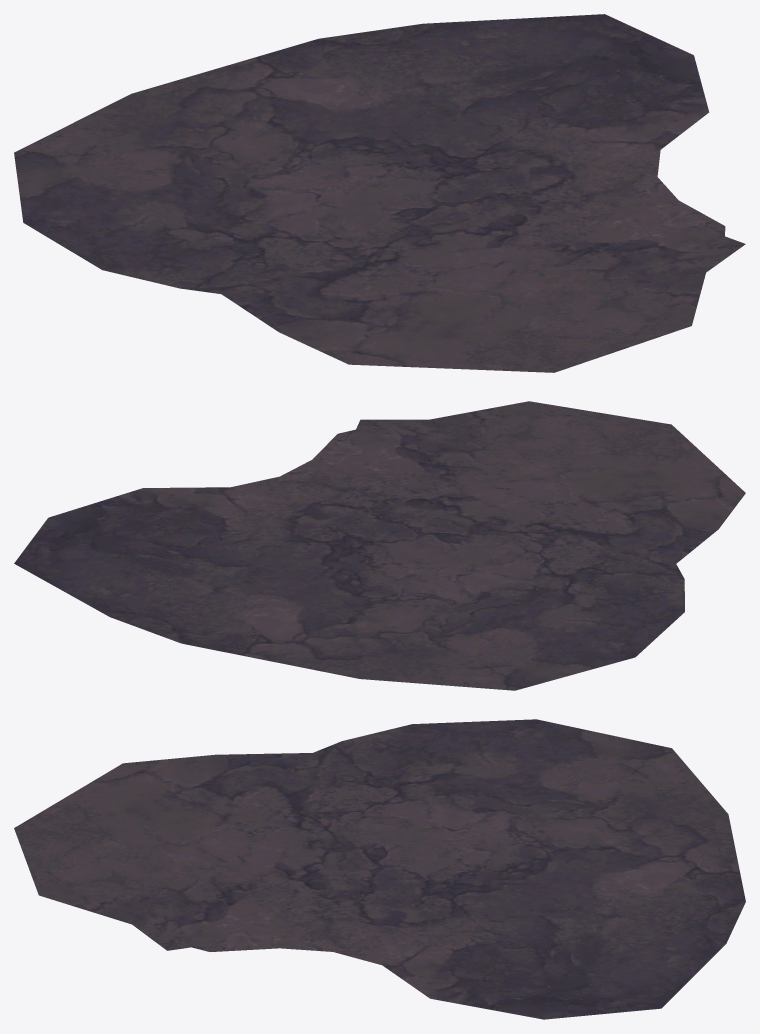
File: yw_ziyuanpingtai_dibiao_004.FBX
The picture shows the model from 3 angles, top to bottom: view 1: azimuth 30°, elevation 25°; view 2: azimuth 150°, elevation 25°; view 3: azimuth 270°, elevation 25°; orthographic projection. The views are drawn at different scales.
Parts seen in each view (by area): view 1: yw_ziyuanpingtai_dibiao_004; view 2: yw_ziyuanpingtai_dibiao_004; view 3: yw_ziyuanpingtai_dibiao_004.
Part boxes in pixels (x1=…): yw_ziyuanpingtai_dibiao_004: x1=14, y1=14, x2=745, y2=372; yw_ziyuanpingtai_dibiao_004: x1=14, y1=401, x2=745, y2=690; yw_ziyuanpingtai_dibiao_004: x1=14, y1=719, x2=745, y2=1019.
Size of the model in its own units: 2842 by 1.3 by 2928.
